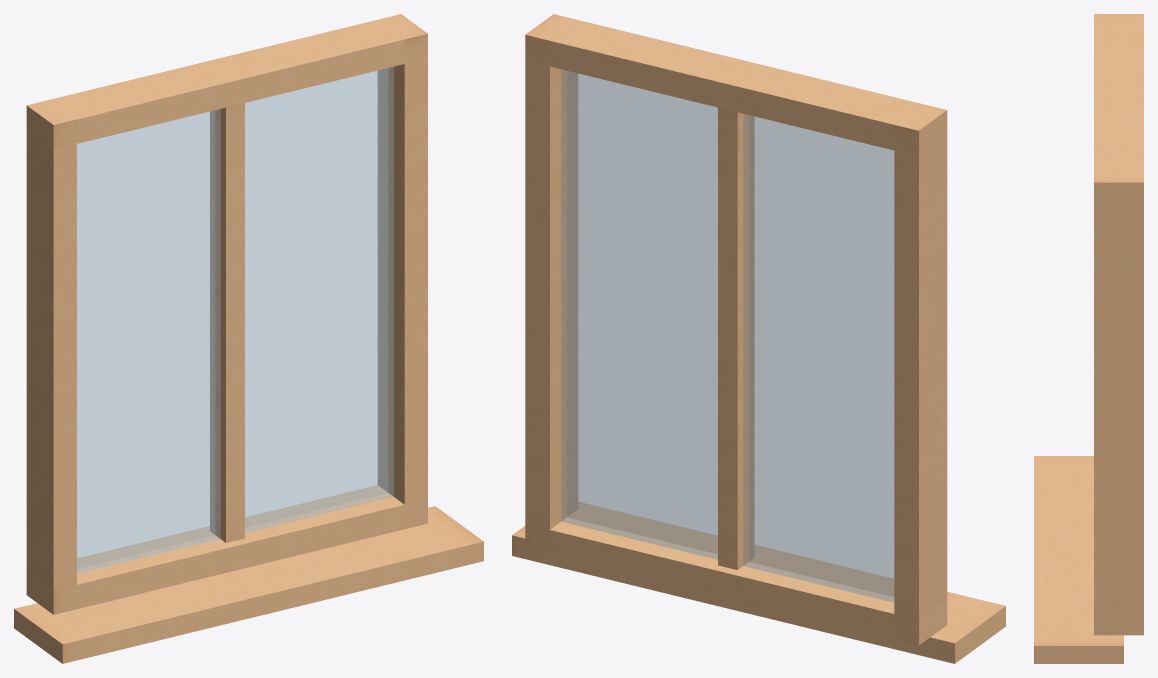
File: Window.fbx
3 renders of one model, left to right at view 1: azimuth 30°, elevation 25°; view 2: azimuth 150°, elevation 25°; view 3: azimuth 270°, elevation 25°, orthographic. The views are drawn at different scales.
Parts seen in each view (by area): view 1: Window; view 2: Window; view 3: Window.
Part boxes in pixels (x1,y1,x2,y2): Window: [14, 14, 483, 663]; Window: [512, 14, 1005, 663]; Window: [1034, 14, 1143, 663].
Bounding box in the file's own units: 0.9 × 1.04 × 0.22.
